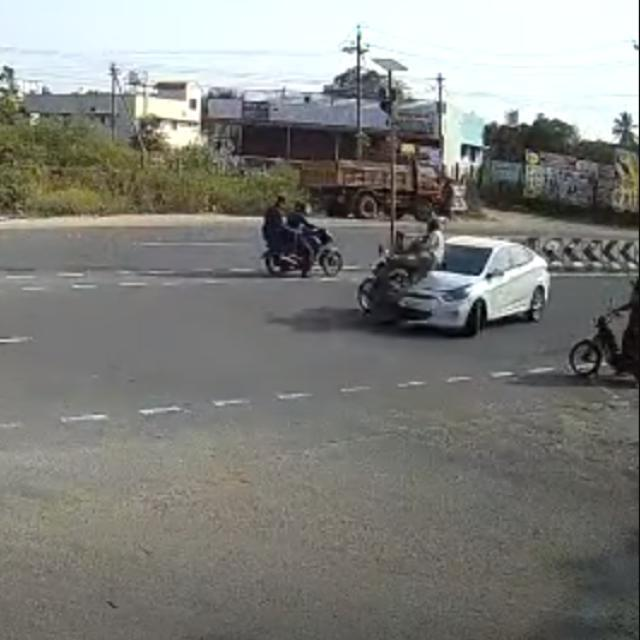accident: (352, 215, 554, 343)
